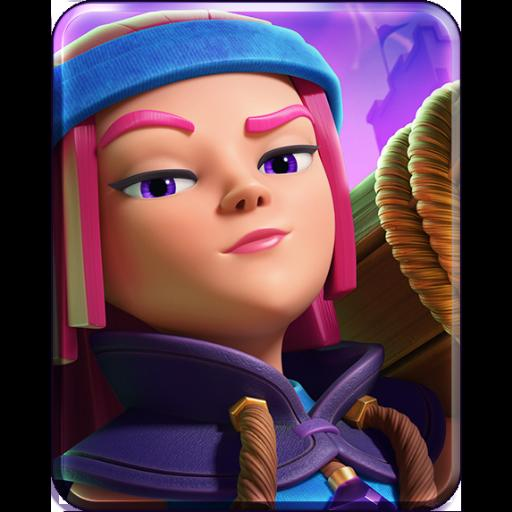firecracker-evo: (64, 14, 450, 500)
